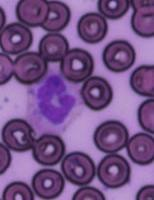N: (25, 66, 84, 137)
